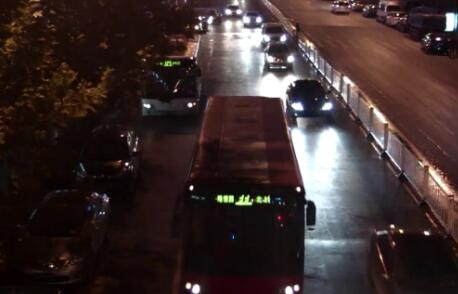bus: (169, 95, 315, 290), (136, 30, 205, 122)
car: (8, 181, 114, 288), (364, 223, 452, 292), (67, 117, 142, 188), (284, 77, 335, 122), (260, 41, 297, 72), (418, 30, 453, 55), (259, 20, 290, 48), (240, 8, 265, 29), (374, 3, 398, 19), (328, 1, 354, 15), (223, 3, 242, 19), (386, 10, 405, 26)
